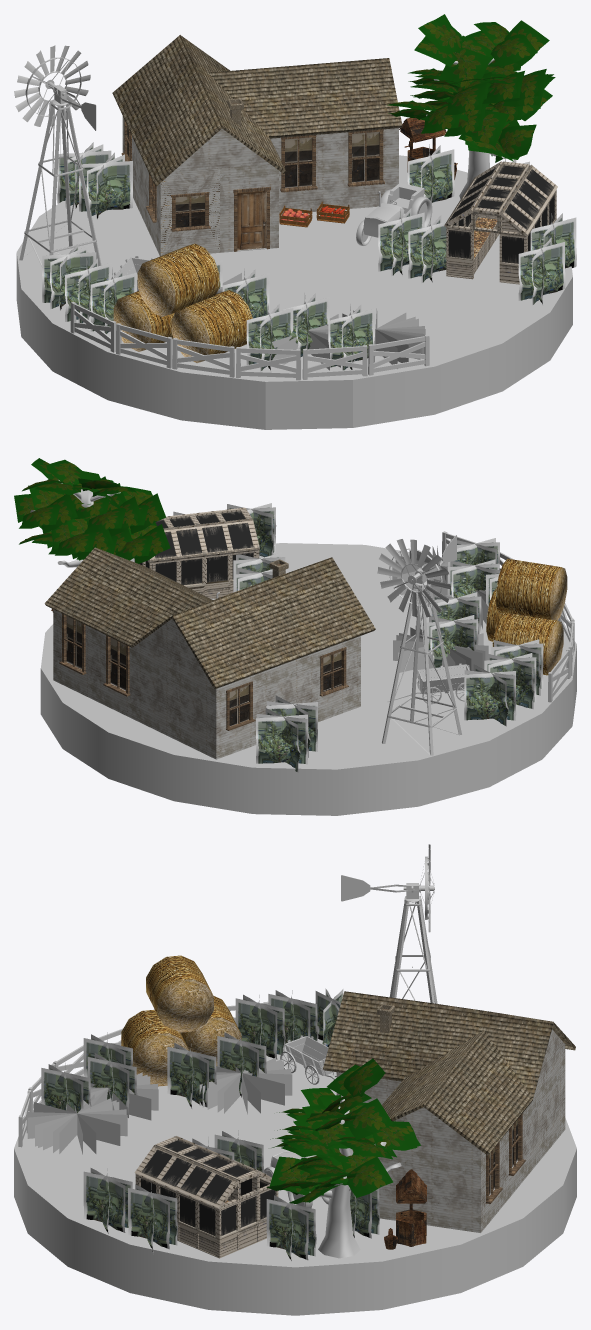
Rendered from Sketchfab.fbx.
3 views of the same model, one above another, from view 1: azimuth 30°, elevation 25°; view 2: azimuth 150°, elevation 25°; view 3: azimuth 270°, elevation 25° (orthographic). The views are drawn at different scales.
Visible parts, largest first — view 1: Groundplane_Cyl_15, House, windmIll1, Greenhouse, hay_3, Greenhouse_glass, hay_2, Leaf12, Grass_slim14, Grass_slim2, Leaf11, tractor (+31 smaller); view 2: Groundplane_Cyl_15, House, windmIll1, Greenhouse_glass, hay_3, Greenhouse, Grass_slim13, Grass_slim15, hay, Leaf15, pPlane10, Grass_slim10 (+20 smaller); view 3: Groundplane_Cyl_15, House, Greenhouse, Greenhouse_glass, pPlane8, hay_3, windmIll1, pPlane10, hay_2, Grass_slim1, Grass_slim4, Grass_slim2 (+23 smaller).
Boxes of the visible parts, x1,y1,x2,y2 form: Groundplane_Cyl_15: (16, 155, 572, 429); House: (112, 35, 402, 256); windmIll1: (14, 45, 101, 267); Greenhouse: (444, 161, 557, 284); hay_3: (137, 243, 219, 316); Greenhouse_glass: (448, 165, 554, 263); hay_2: (171, 290, 252, 362); Leaf12: (414, 14, 493, 88); Grass_slim14: (78, 152, 132, 219); Grass_slim2: (518, 237, 565, 305); Leaf11: (465, 20, 549, 66); tractor: (356, 182, 432, 245); Groundplane_Cyl_15: (40, 543, 576, 815); House: (44, 547, 375, 759); windmIll1: (377, 535, 461, 755); Greenhouse_glass: (134, 511, 253, 585); hay_3: (496, 558, 567, 620); Greenhouse: (142, 507, 259, 598); Grass_slim13: (464, 664, 516, 726); Grass_slim15: (256, 708, 307, 772); hay: (492, 612, 563, 675); Leaf15: (14, 485, 77, 533); pPlane10: (393, 626, 488, 678); Grass_slim10: (426, 615, 478, 667); Groundplane_Cyl_15: (14, 1039, 576, 1315); House: (323, 991, 575, 1232); Greenhouse: (134, 1136, 278, 1258); Greenhouse_glass: (140, 1140, 275, 1235); pPlane8: (26, 1094, 127, 1154); hay_3: (146, 955, 213, 1032); windmIll1: (341, 844, 437, 1003); pPlane10: (199, 1057, 292, 1114); hay_2: (121, 1009, 189, 1086); Grass_slim1: (128, 1183, 177, 1252); Grass_slim4: (266, 1195, 316, 1261); Grass_slim2: (83, 1168, 132, 1234).
Bounding box in the file's own units: 1890 × 913 × 1778.
